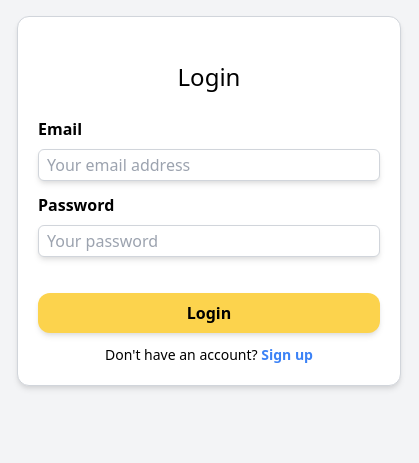
submit login form › on click
Click the button with test id "login-submit-btn" at coordinates (209, 313), box [38, 293, 380, 333]
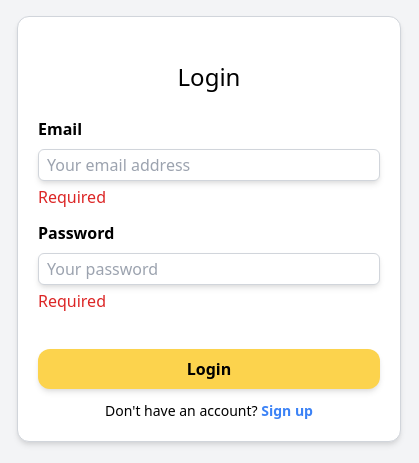
Expected: the text with test id "error-email" reads "Required", [38, 186, 106, 208]
Expected: the text with test id "error-password" reads "Required", [38, 290, 106, 312]
Type "invalid-email@protonmail" into the field with placeholder "Your email address" at coordinates (209, 165), box [38, 149, 380, 181]
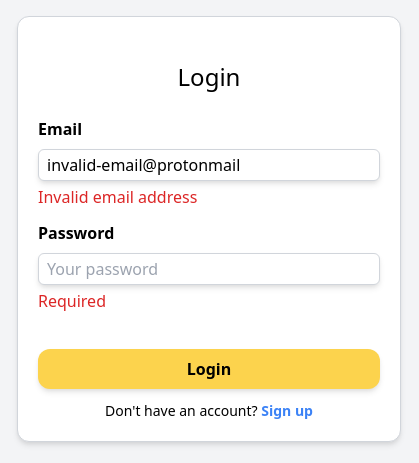
Expected: the text with test id "error-password" reads "Required", [38, 290, 106, 312]
Expected: the text with test id "error-email" reads "Invalid email address", [38, 186, 197, 208]
Type "pass" into the password field with placeholder "Your password" at coordinates (209, 269), box [38, 253, 380, 285]
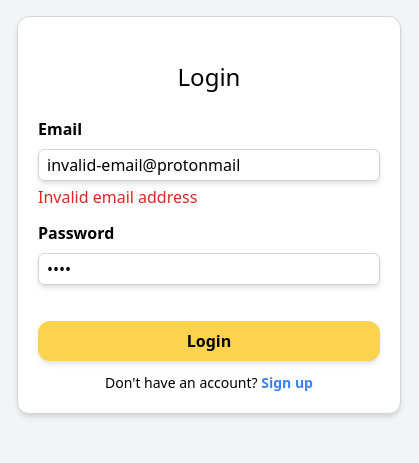
Expected: the text with test id "error-email" reads "Invalid email address", [38, 186, 197, 208]
Expected: the text with test id "error-password" is gone
Replace the text in the field with placeholder "Your email address" with "valid-email@protonmail.com" at coordinates (209, 165), box [38, 149, 380, 181]
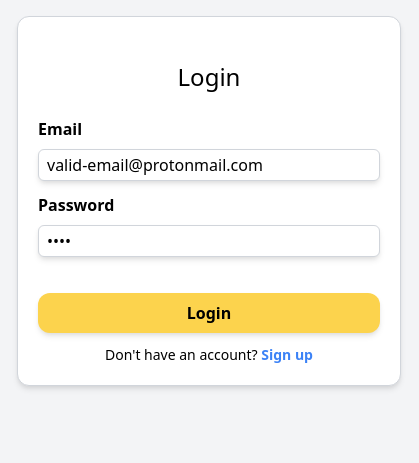
Expected: the text with test id "error-email" is gone
